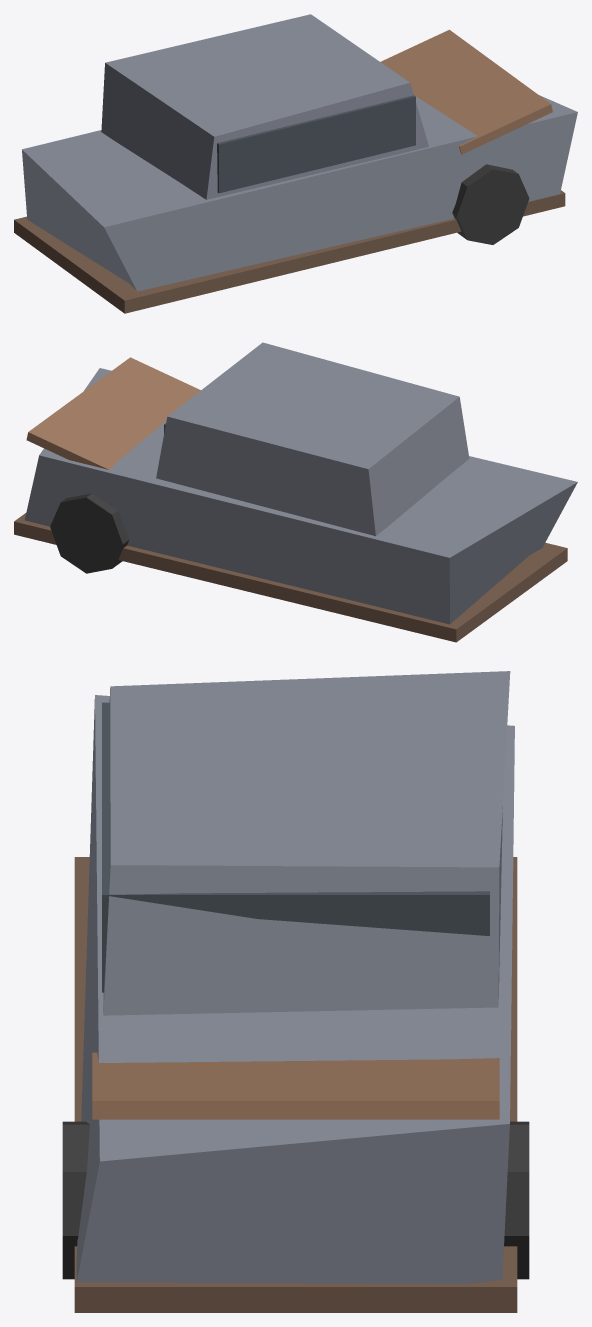
The model's file is obs_wreck_car_b.glb.
3 views of the same model, one above another, from view 1: azimuth 30°, elevation 25°; view 2: azimuth 150°, elevation 25°; view 3: azimuth 270°, elevation 25° (orthographic). The views are drawn at different scales.
Visible parts, largest first — view 1: obs_wreck_car_b; view 2: obs_wreck_car_b; view 3: obs_wreck_car_b.
Part boxes in pixels (x1,y1,x2,y2): obs_wreck_car_b: (14,14,577,313); obs_wreck_car_b: (14,342,577,642); obs_wreck_car_b: (62,671,529,1312).
Size of the model in its own units: 4.58 by 1.58 by 1.95.
